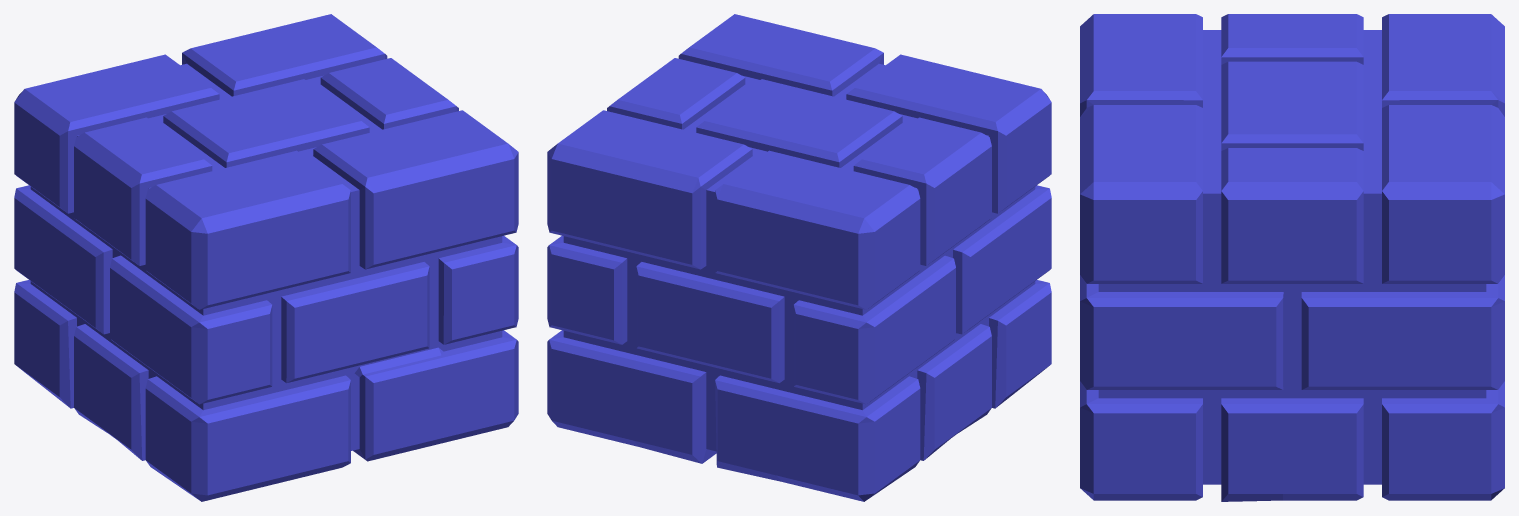
File: stonetile.low.fbx
3 renders of one model, left to right at view 1: azimuth 30°, elevation 25°; view 2: azimuth 150°, elevation 25°; view 3: azimuth 270°, elevation 25°, orthographic. The views are drawn at different scales.
Parts seen in each view (by area): view 1: stone.low; view 2: stone.low; view 3: stone.low.
Part boxes in pixels (left/top/right/bottom): stone.low: left=14, top=14, right=518, bottom=501; stone.low: left=547, top=14, right=1051, bottom=501; stone.low: left=1080, top=14, right=1504, bottom=501.
Size of the model in its own units: 110 by 91.02 by 110.
